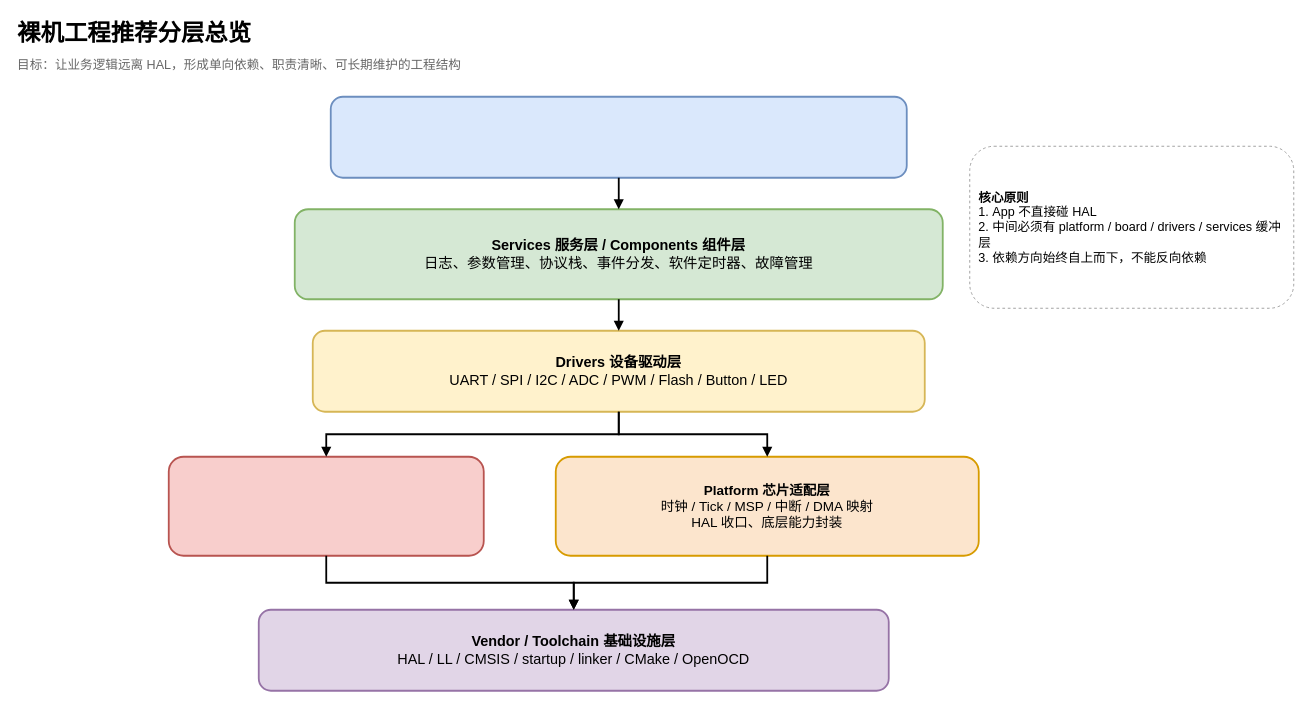
Some shapes in this 1310 by 707 pixel diagram are drawn without their labels. The shapes that lost their labels are listed below. From the top down, each one's box as (x1, y1, x2, y2) in pixels, then its label:
(329, 95, 907, 178): App 应用层 产品行为 / 状态机 / 功能编排
(167, 455, 484, 556): Board BSP 板级支持层 板卡资源命名 引脚 / 外设实例 / 电源控制
